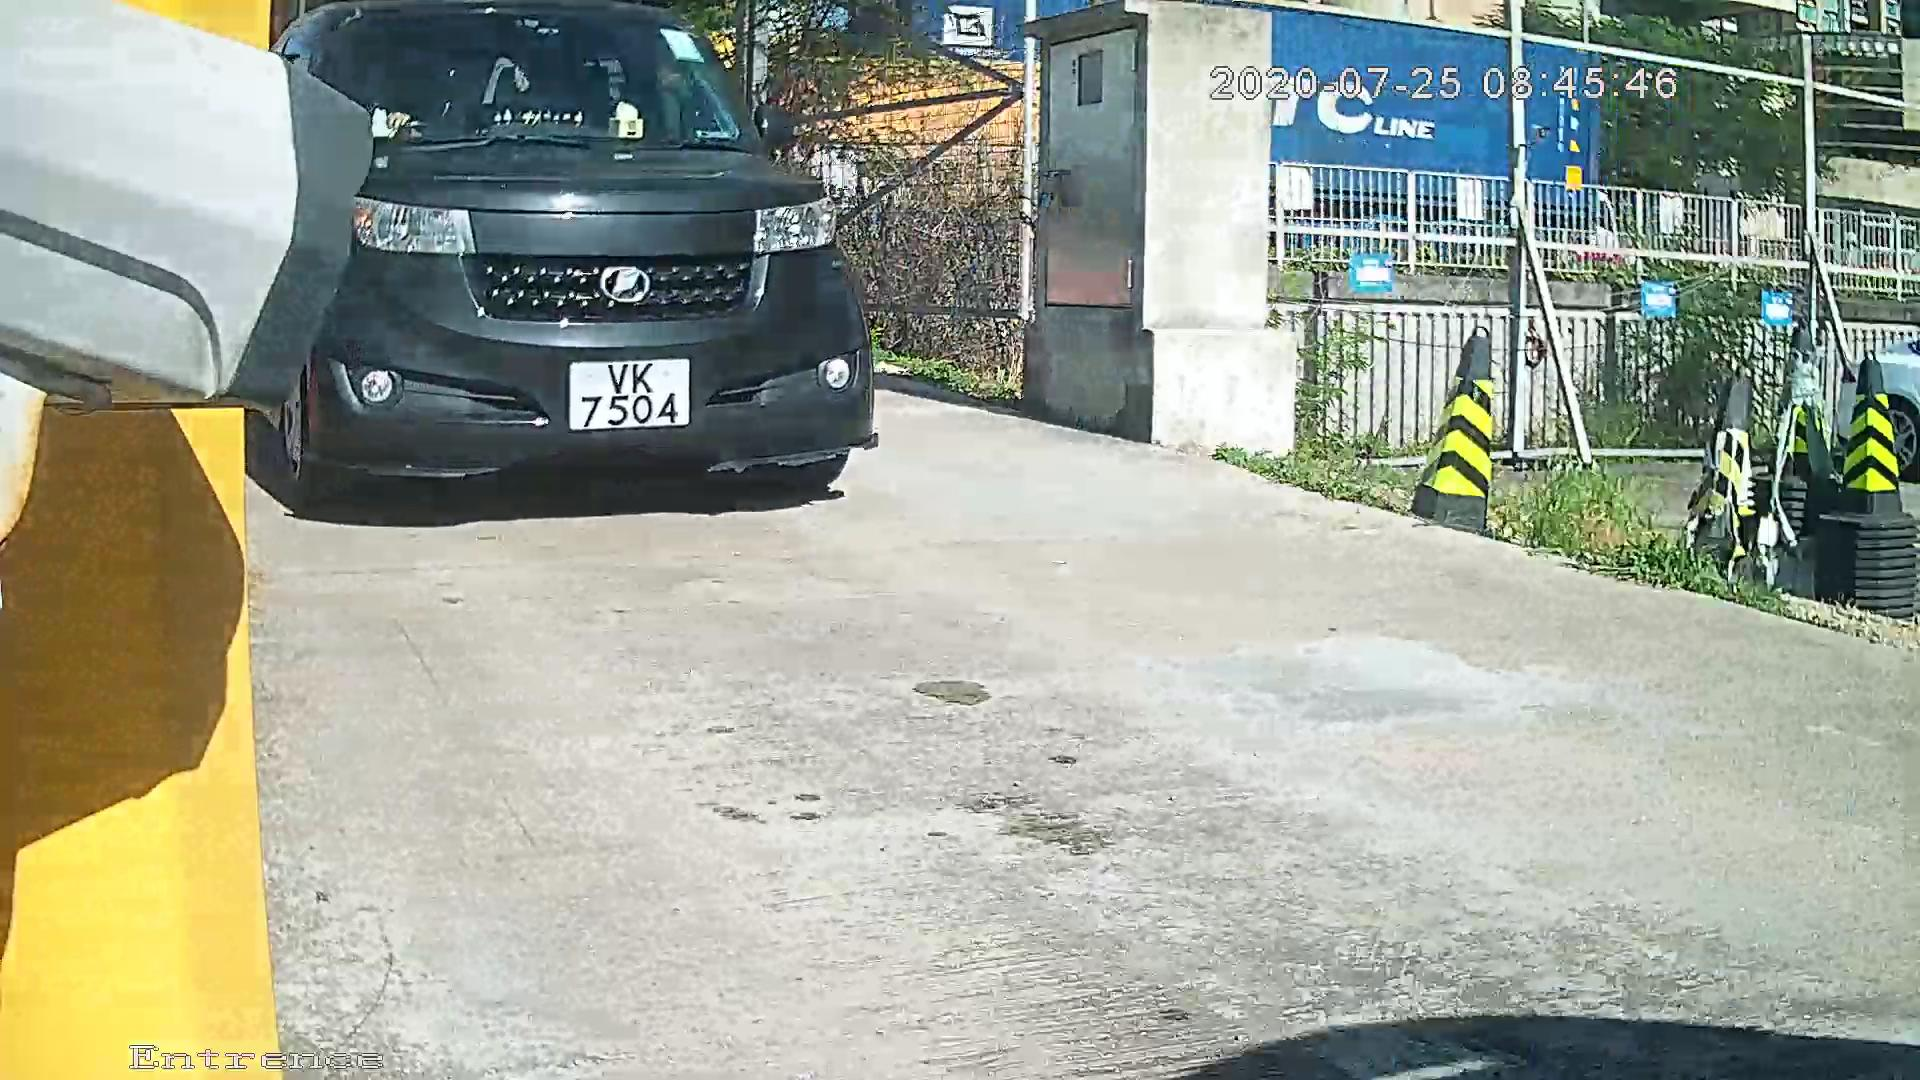Car: (43, 1, 960, 589)
License Plate: (523, 338, 695, 454)
